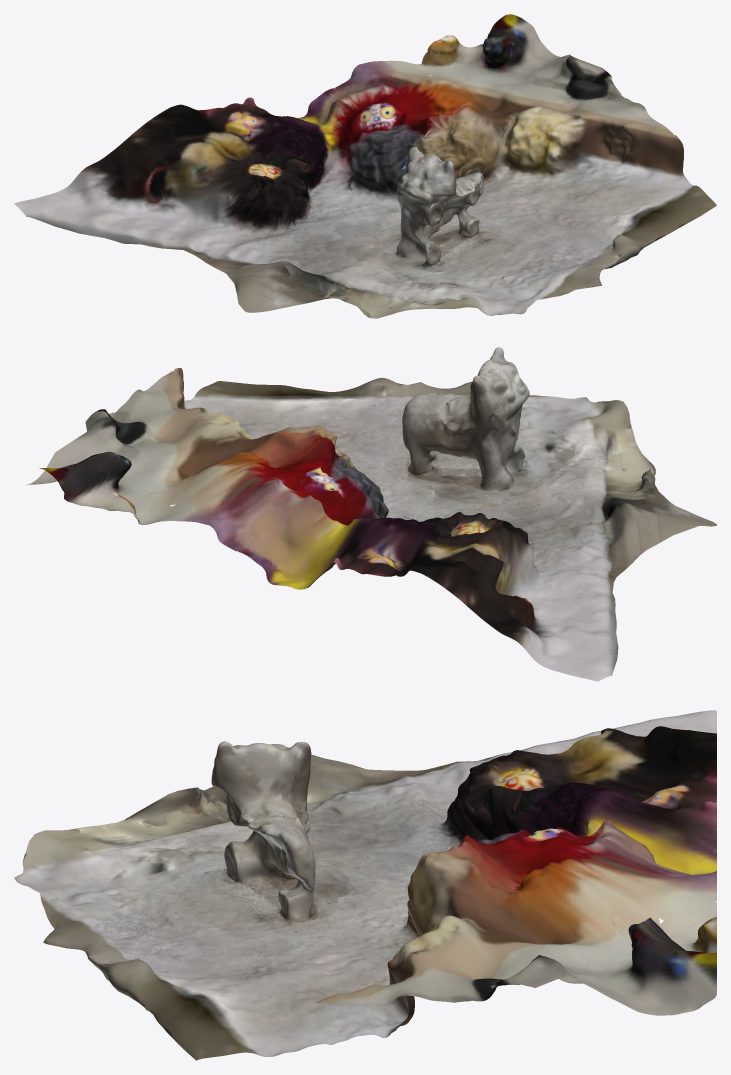
3 views of the same model, one above another, from view 1: azimuth 30°, elevation 25°; view 2: azimuth 150°, elevation 25°; view 3: azimuth 270°, elevation 25° (orthographic). The views are drawn at different scales.
Size of the model in its own units: 3.61 by 0.7394 by 2.99.
1 material, 1 textured.
